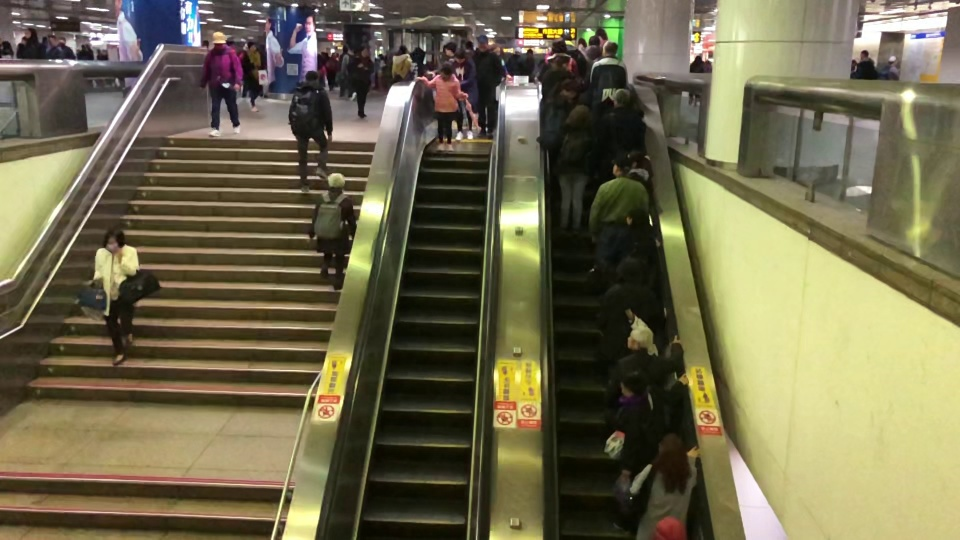person_head: (650, 429, 688, 475), (649, 512, 687, 540), (612, 253, 648, 281), (617, 367, 647, 399), (626, 325, 653, 351), (566, 102, 591, 128), (609, 151, 632, 178), (102, 227, 125, 253), (623, 205, 646, 226), (327, 169, 345, 194), (612, 88, 632, 108), (626, 150, 646, 170), (601, 39, 619, 61), (559, 79, 577, 100), (211, 30, 228, 49), (550, 37, 567, 55), (438, 61, 452, 81), (549, 55, 566, 70), (477, 34, 489, 52), (305, 68, 319, 83), (490, 42, 504, 56), (23, 28, 38, 41), (359, 42, 370, 58), (455, 48, 466, 63), (444, 42, 457, 54), (46, 33, 57, 47), (588, 35, 600, 47), (246, 40, 257, 52), (397, 43, 407, 56), (888, 54, 898, 67), (560, 32, 573, 42), (56, 35, 66, 47), (860, 49, 870, 60), (465, 40, 474, 51), (694, 54, 702, 62), (515, 46, 521, 56)
person_vbox: (603, 366, 689, 530), (77, 225, 143, 370), (536, 105, 602, 236), (594, 255, 670, 368), (624, 432, 700, 540), (585, 155, 650, 278), (603, 326, 685, 411), (305, 171, 357, 291), (286, 68, 334, 193), (592, 207, 657, 286), (198, 28, 244, 138), (416, 61, 468, 152), (597, 86, 646, 181), (472, 32, 502, 139), (590, 40, 630, 114), (532, 32, 587, 85), (449, 50, 479, 141), (544, 78, 584, 144), (239, 40, 266, 112), (351, 44, 375, 119), (540, 55, 580, 100), (571, 35, 604, 86), (625, 148, 654, 201), (545, 37, 581, 78), (389, 43, 416, 85), (686, 54, 705, 107), (17, 26, 47, 59), (490, 41, 513, 81), (855, 50, 878, 80), (876, 54, 900, 81), (506, 47, 527, 77), (55, 34, 77, 60), (43, 33, 64, 60)
